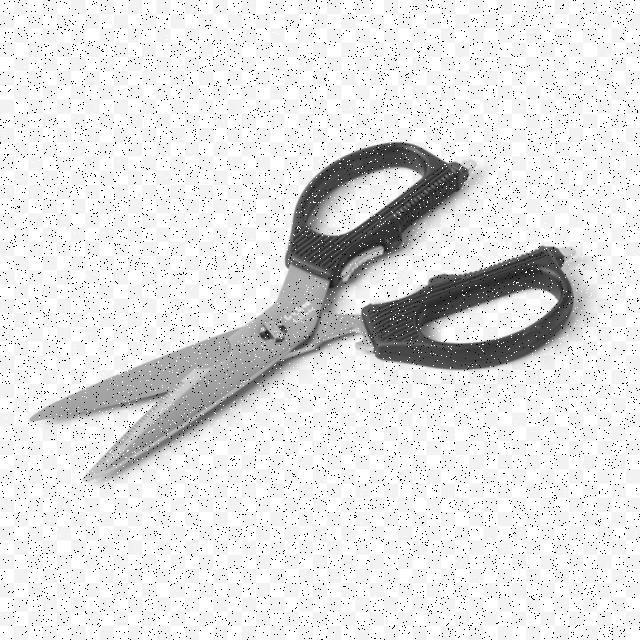scissors: (19, 137, 587, 484)
